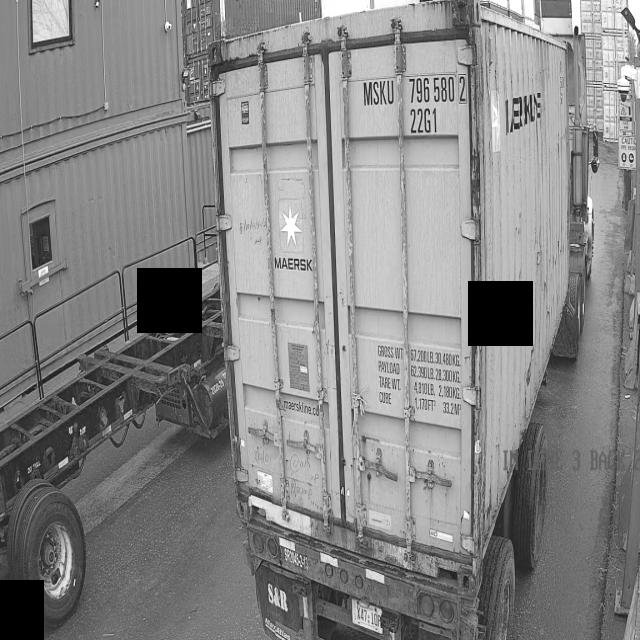container_company_logo: (274, 199, 312, 271)
container_number: (354, 61, 494, 145)
driver: (611, 146, 624, 224)
license_plate: (352, 600, 382, 633)
other_container_info: (376, 334, 465, 420)
truck_with_container: (211, 0, 591, 640)
truck_without_container: (0, 285, 227, 625)
